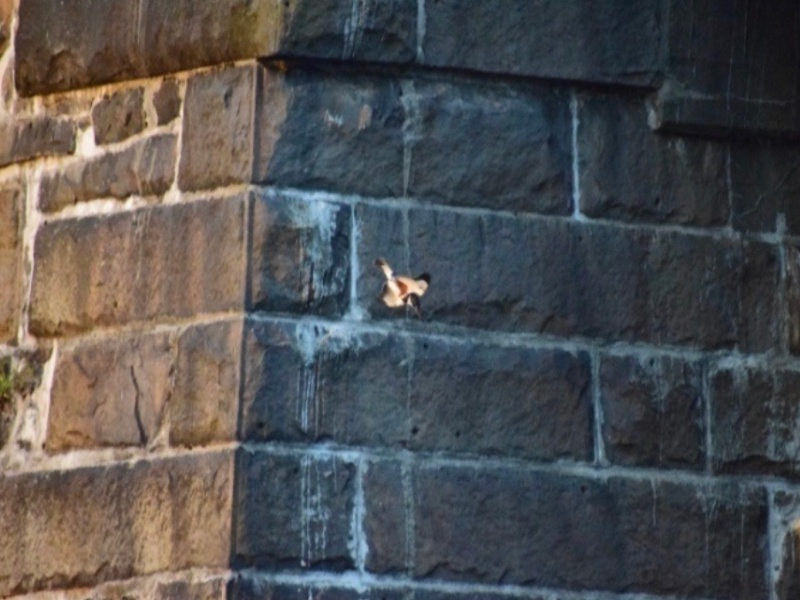kingfisher: (370, 249, 433, 326)
